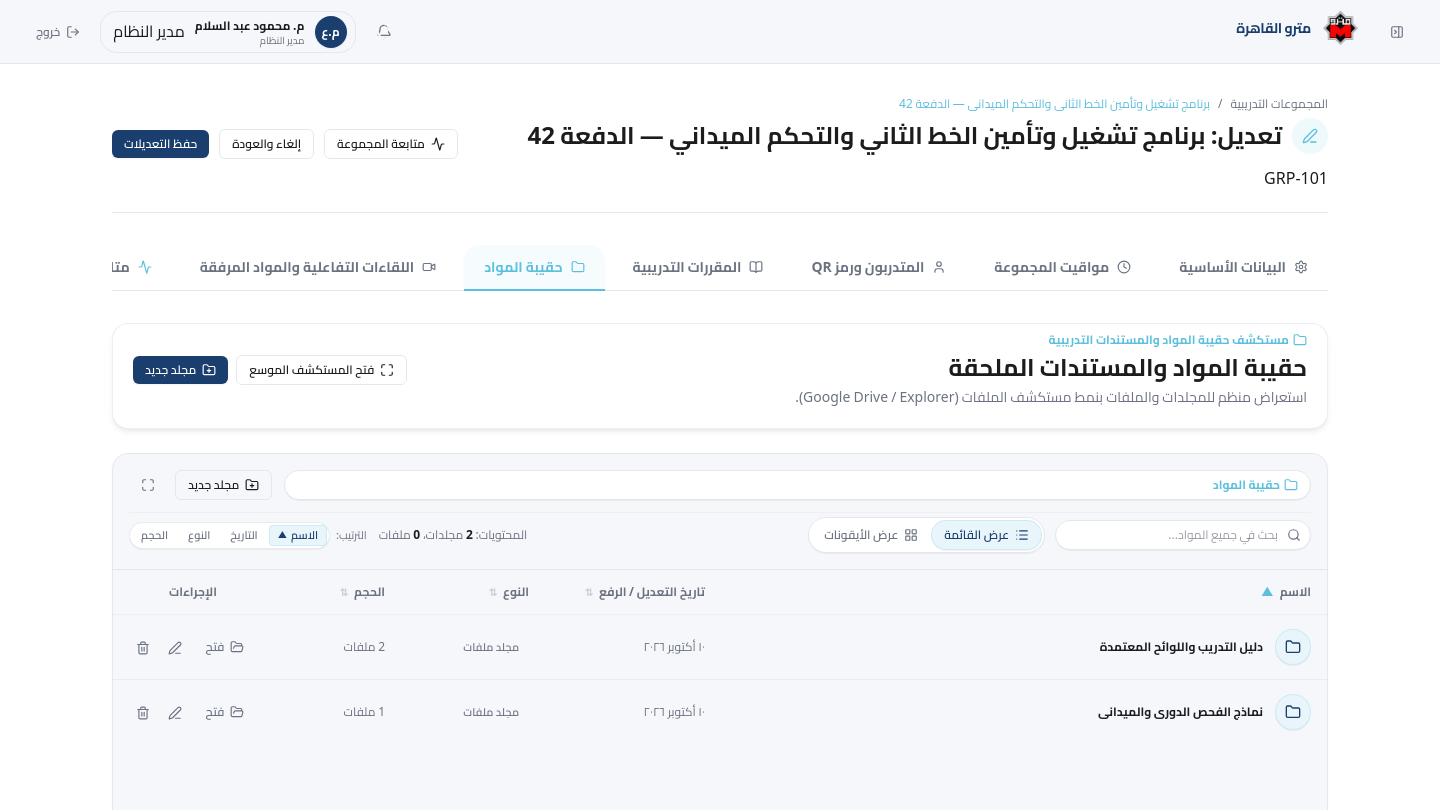
Test: Focused UI/UX Corrections After Increment 10 › 1. Explorer-Style Folder Browser & Sorting › navigates into folder, shows subfolders/files, and navigates back via breadcrumbs & back button
This screenshot has width=1440, height=810.
Check: the row with test id "folder-card-FLD-GRP-101-01" is shown, box [113,615,1327,680]
# Open Folder 1
Click the button with test id "open-folder-btn-FLD-GRP-101-01": (225, 647) [194,633,256,661]
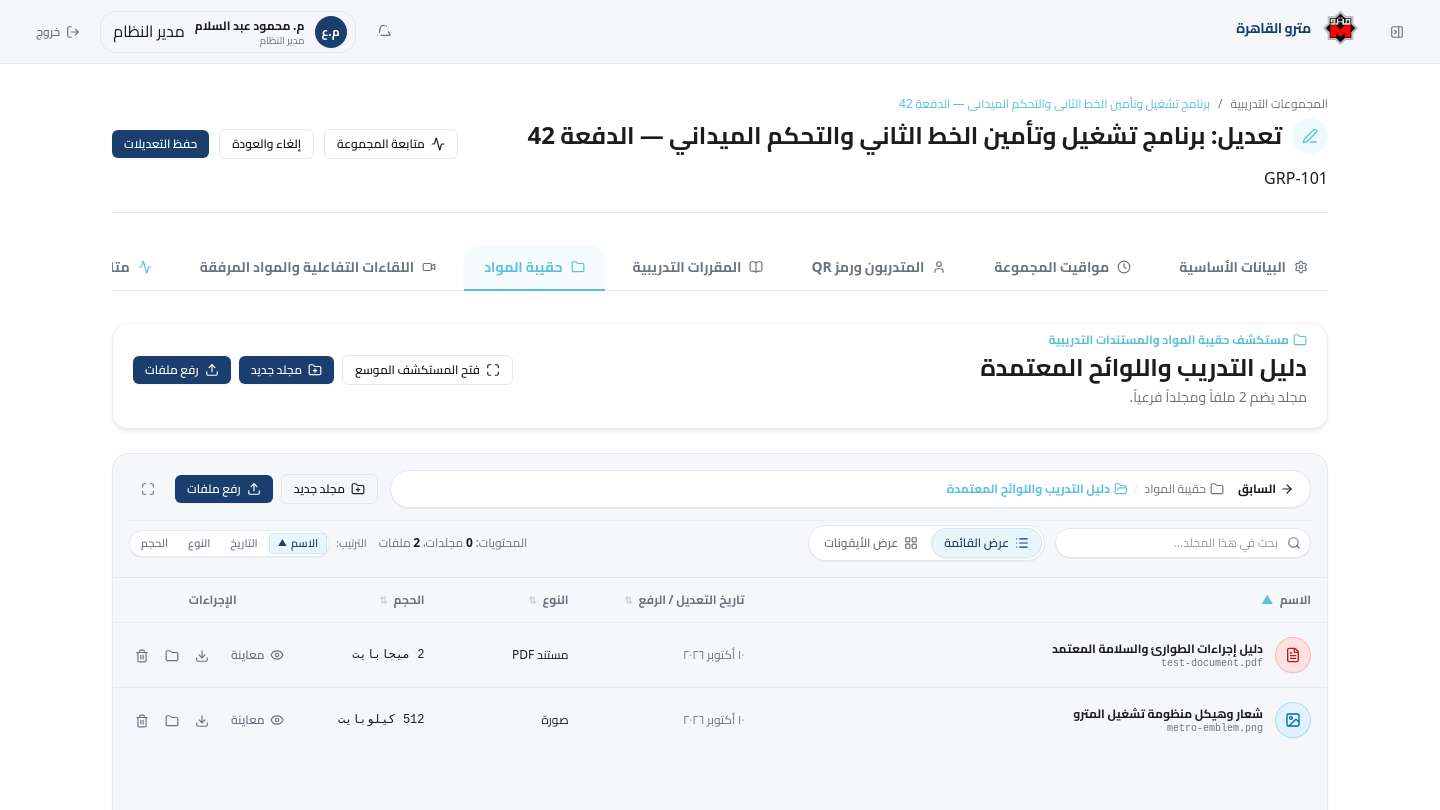
Check: the element with test id "materials-files-view" is shown, box [113,578,1327,738]
Check: the button with test id "breadcrumb-folder" reads "دليل التدريب واللوائح المعتمدة", box [947,481,1128,497]
Check: the row with test id "file-card-FIL-GRP-101-001" is shown, box [113,623,1327,688]
# Sort files inside folder
Click the column heading with test id "sort-header-size": (376, 601) [312,578,440,623]
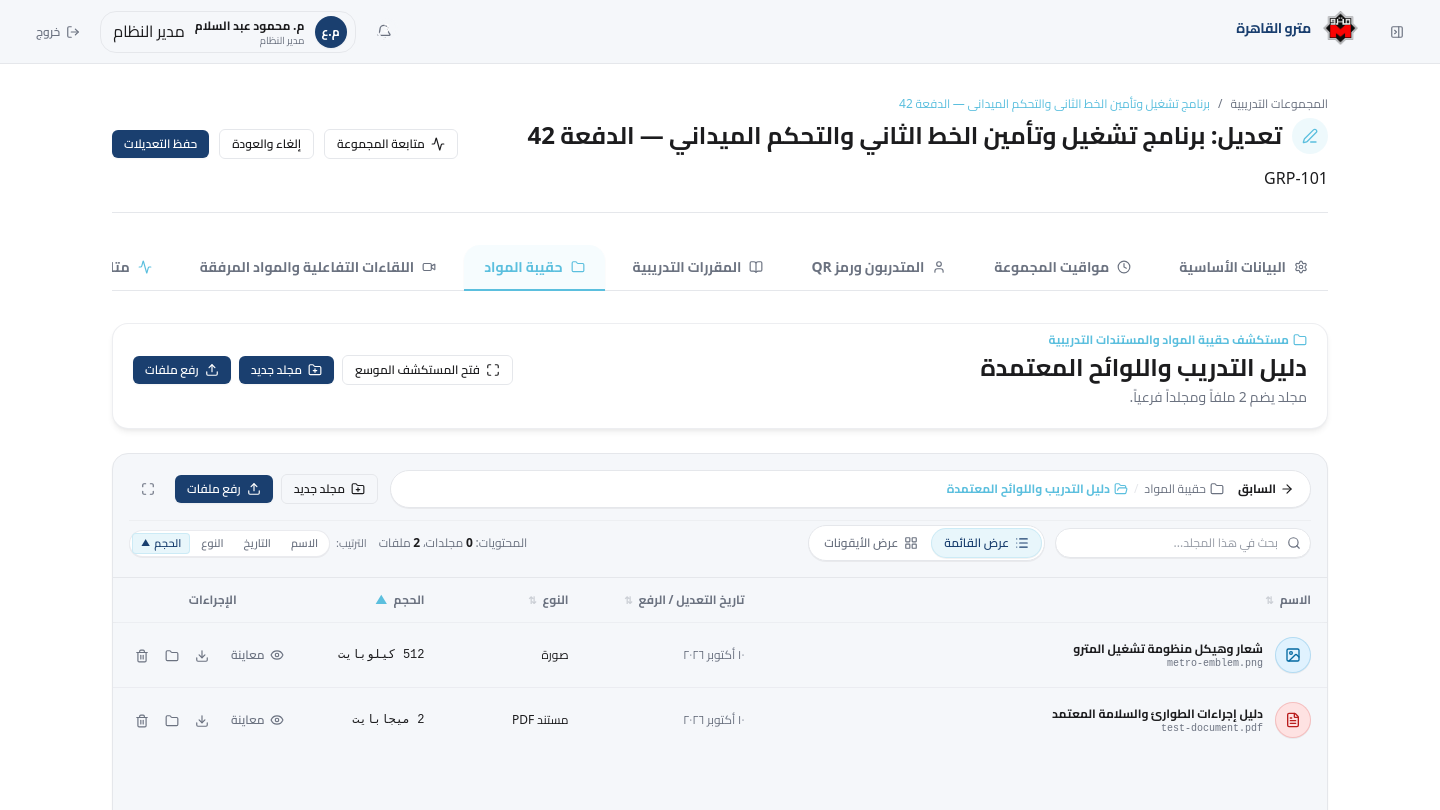
Check: the button with test id "back-to-folders-btn" is shown
Check: the text with test id "sort-indicator-size" reads "▲", box [375,588,388,611]
Click the button with test id "back-to-folders-btn": (1266, 489) [1234,477,1298,501]
(page scrolled)
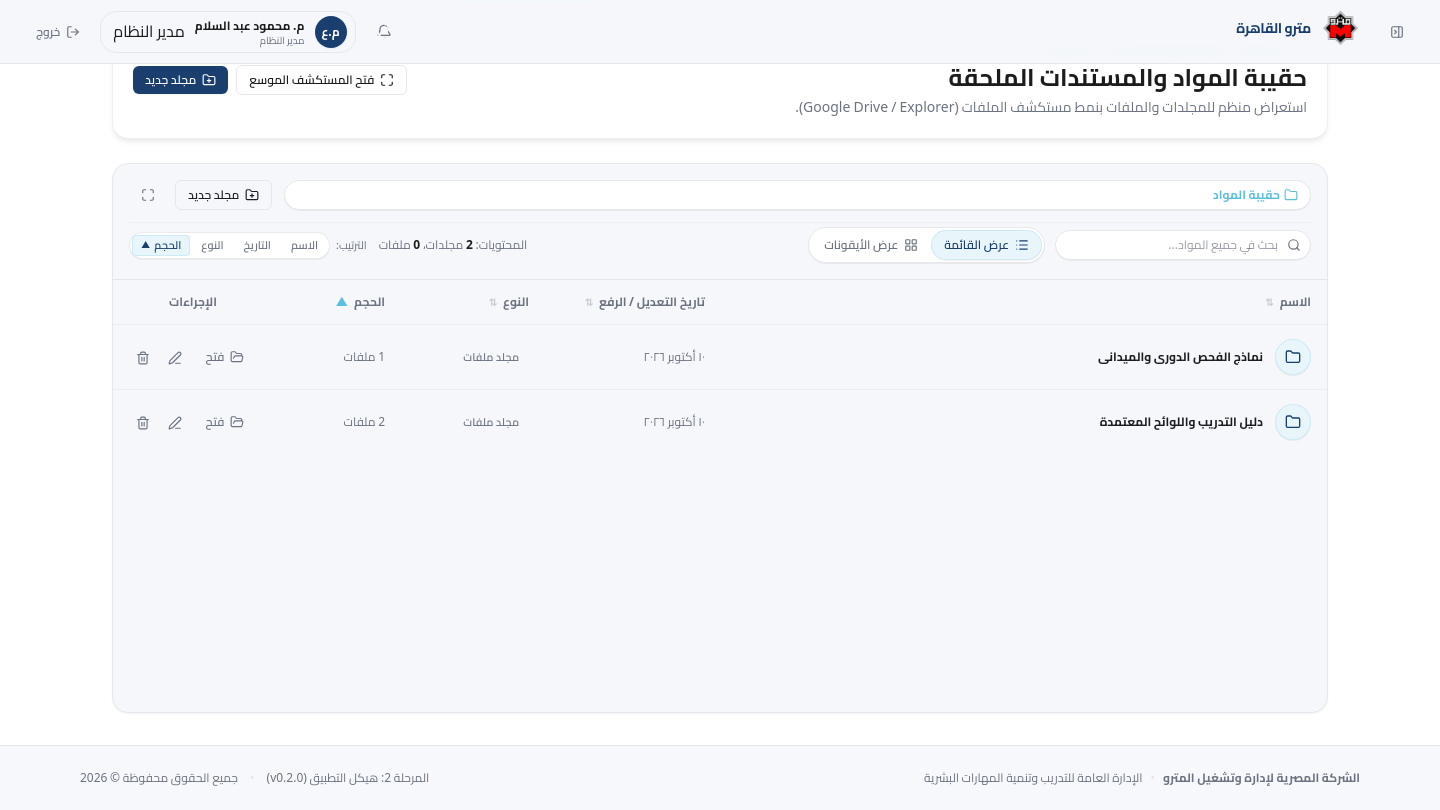
Check: the element with test id "materials-folders-view" is shown, box [113,280,1327,440]
